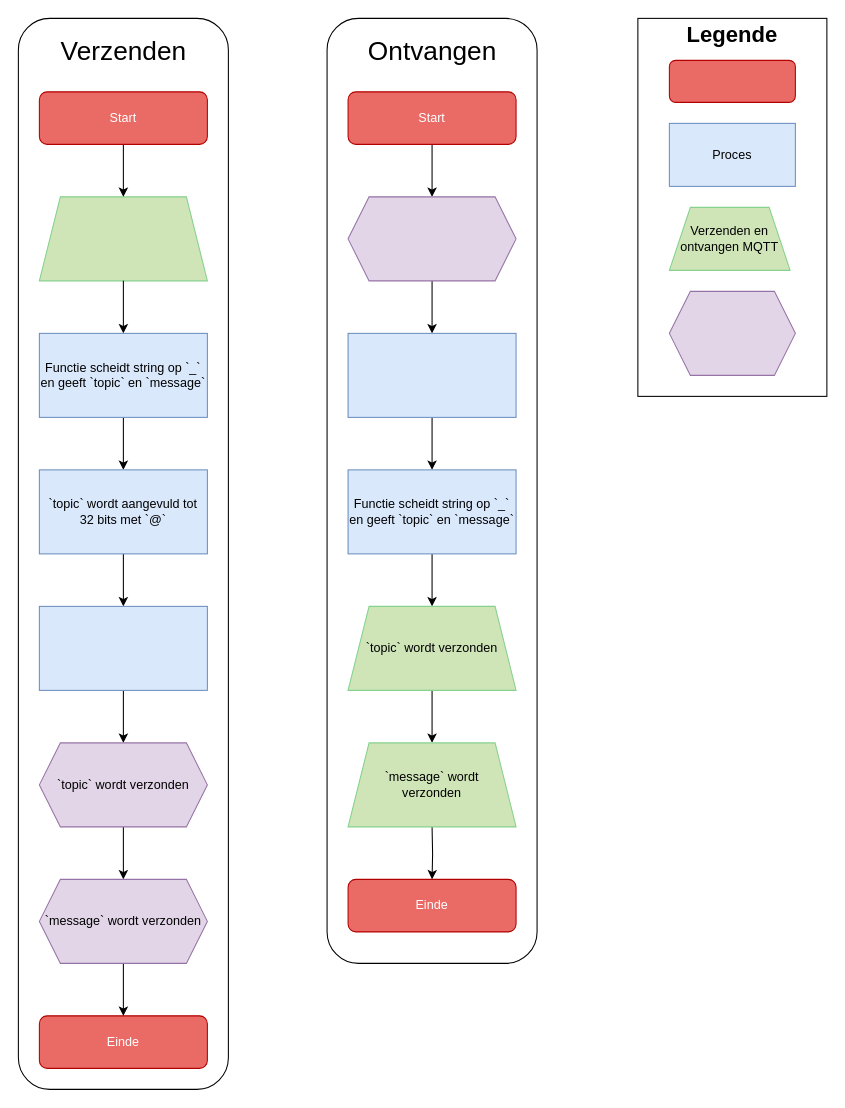
Some shapes in this 845 by 1108 pixel diagram are drawn without their labels. Here are the shapes that lost their labels. From the top down, the centre of each, then its label:
At pixel 731 80: "Start/einde".
At pixel 122 238: "Ontvangt `message` op `topic`".
At pixel 431 238: "Ontvangt string in de vorm `topic_message`".
At pixel 731 332: "Verzenden en ontvangen Wire".
At pixel 431 374: "Functie verwijdert `@` uit `topic_message`".
At pixel 122 647: "`message` wordt aangevuld tot 32 bits met `@`".
